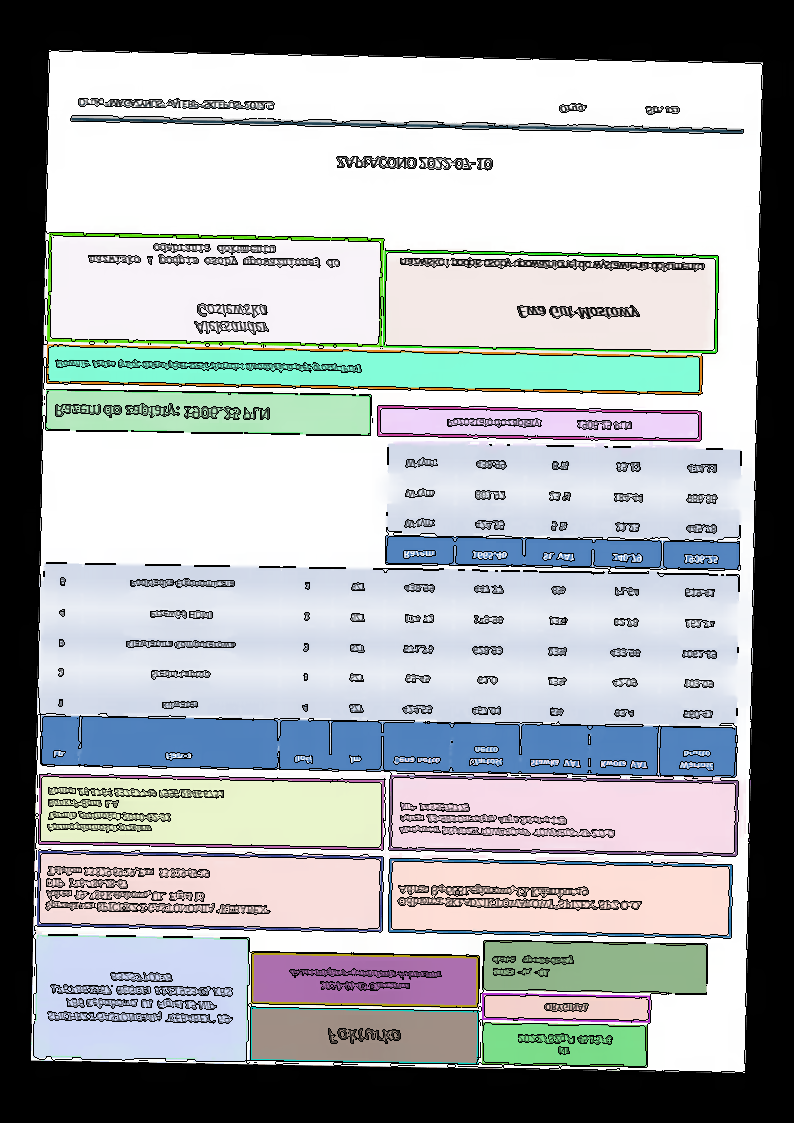Table: (39, 561, 741, 779), (384, 443, 742, 571)
TextBox: (43, 864, 274, 918), (42, 967, 236, 1027), (44, 785, 227, 837), (396, 800, 618, 840), (394, 882, 642, 914), (86, 241, 340, 271), (397, 254, 705, 275), (54, 358, 363, 376), (53, 400, 271, 424), (288, 966, 443, 994), (333, 152, 494, 174), (75, 95, 275, 112), (445, 416, 632, 433), (192, 301, 274, 337), (515, 300, 642, 323), (514, 1031, 615, 1059), (491, 952, 576, 980), (556, 102, 682, 118), (325, 1024, 402, 1046), (541, 1002, 590, 1014)
